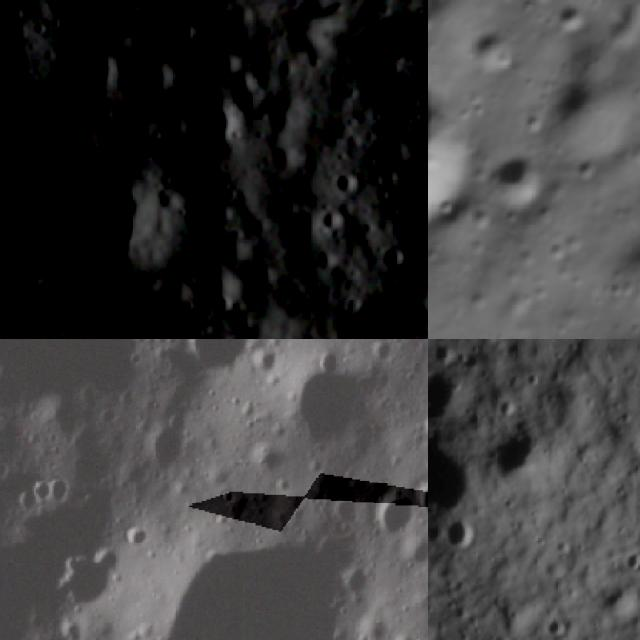crater: (147, 537, 364, 640), (428, 55, 507, 256), (525, 56, 640, 172), (283, 367, 377, 450), (479, 142, 561, 224), (458, 13, 536, 88), (428, 429, 483, 515), (490, 414, 550, 484), (58, 547, 119, 612), (183, 339, 254, 379), (141, 52, 187, 104), (204, 113, 256, 157), (428, 359, 463, 420), (378, 495, 414, 547), (438, 514, 480, 554), (372, 240, 410, 282), (204, 37, 242, 74), (312, 345, 350, 378), (234, 76, 272, 106), (121, 526, 148, 554), (325, 212, 351, 241), (331, 171, 359, 197), (46, 478, 70, 507), (14, 492, 42, 516), (312, 247, 339, 270), (223, 329, 260, 339), (420, 483, 428, 520), (153, 0, 190, 5)
